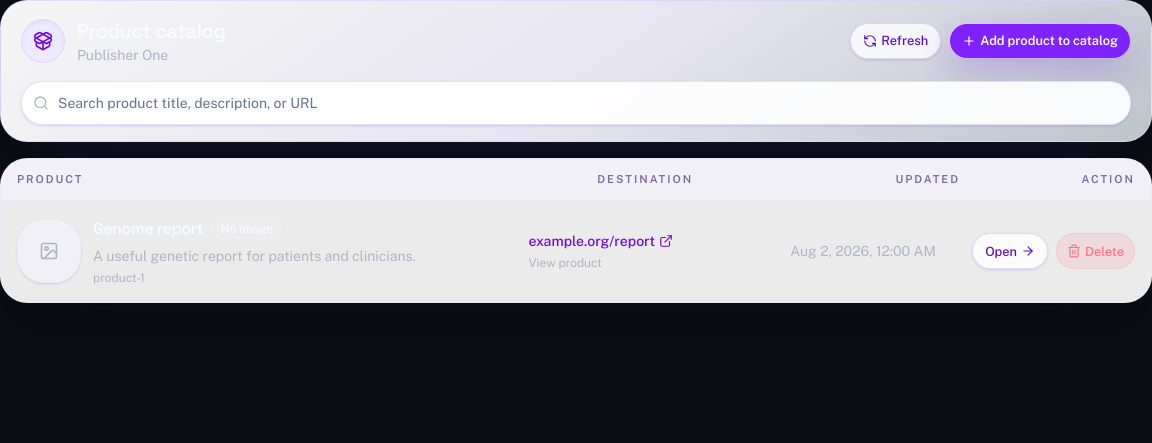
Test: DiscoverOrganizationProductCatalogBrowser › uses search-specific empty copy without duplicating the add action
The image size is (1152, 443).
In the field with placeholder "Search product title, description, or URL": (576,103) [21,81,1131,125], type "not present"
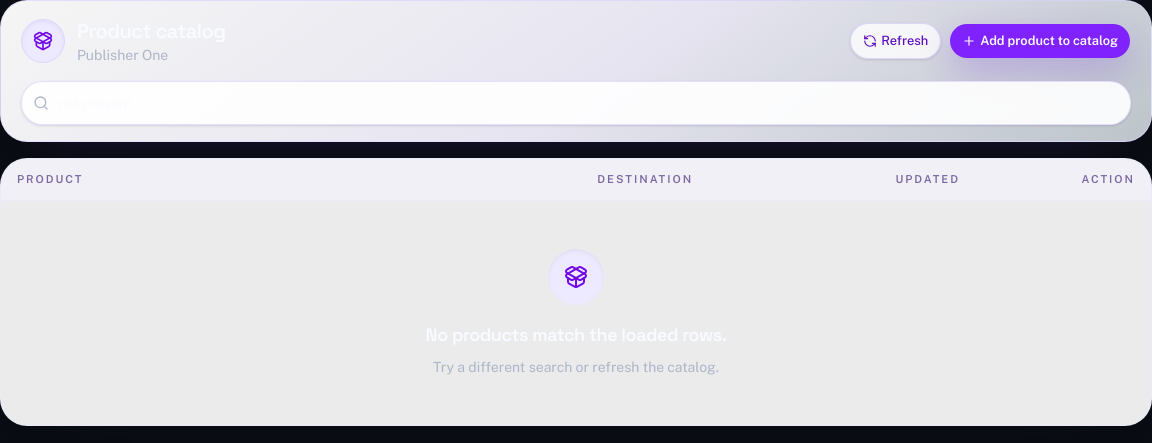
Check: the number of links "Add product to catalog" is 1, box [949,23,1131,59]
Check: the text "Try a different search or refresh the catalog." is shown, box [433,359,719,375]
Check: the link "example.org/report" is gone
